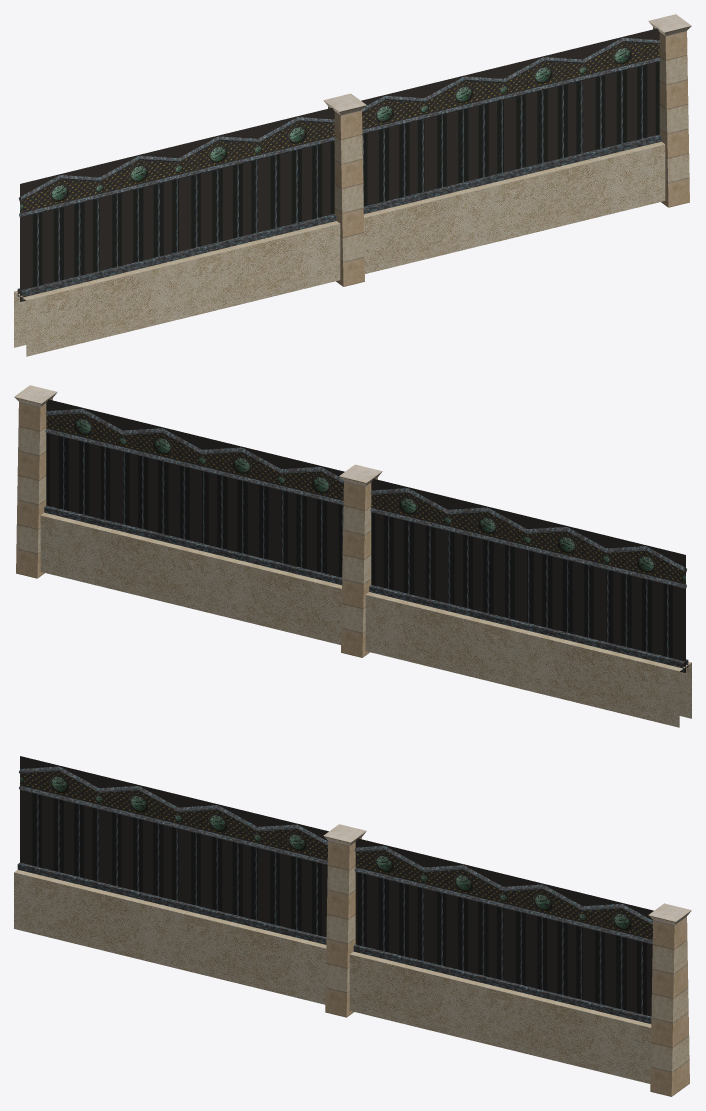
The model's file is thm_nboo_imprv_metal_fence_wall_sml_s02_l1.fbx.
3 renders of one model, top to bottom at view 1: azimuth 30°, elevation 25°; view 2: azimuth 150°, elevation 25°; view 3: azimuth 330°, elevation 25°, orthographic.
Visible parts, largest first — view 1: mesh_node; view 2: mesh_node; view 3: mesh_node.
Part boxes in pixels (left/top/right/bottom): mesh_node: left=14, top=14, right=691, bottom=356; mesh_node: left=14, top=385, right=691, bottom=727; mesh_node: left=14, top=756, right=691, bottom=1096.
Size of the model in its own units: 6.29 by 1.58 by 0.3.
